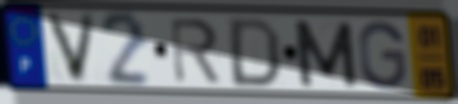2: (98, 8, 157, 90)
D: (228, 15, 283, 90)
G: (356, 19, 409, 92)
M: (290, 18, 361, 90)
R: (167, 16, 223, 86)
V: (42, 10, 100, 86)
